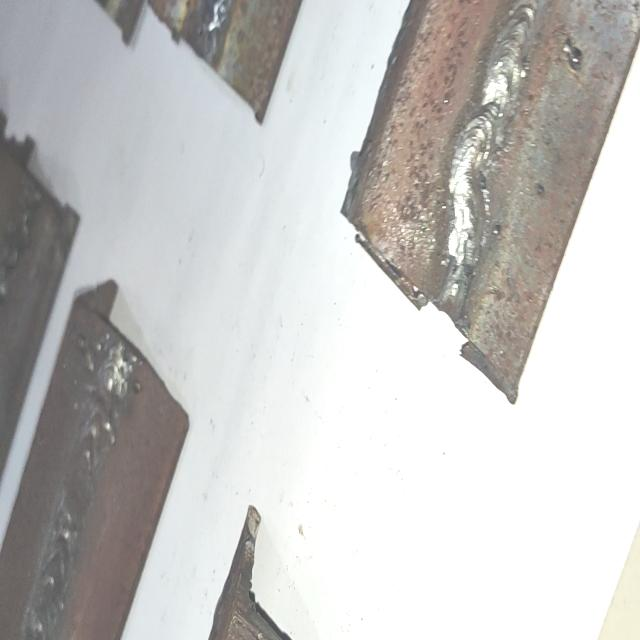Bad Weld: (16, 344, 136, 640)
Defect: (23, 352, 143, 640)
Good Weld: (429, 0, 546, 301)
